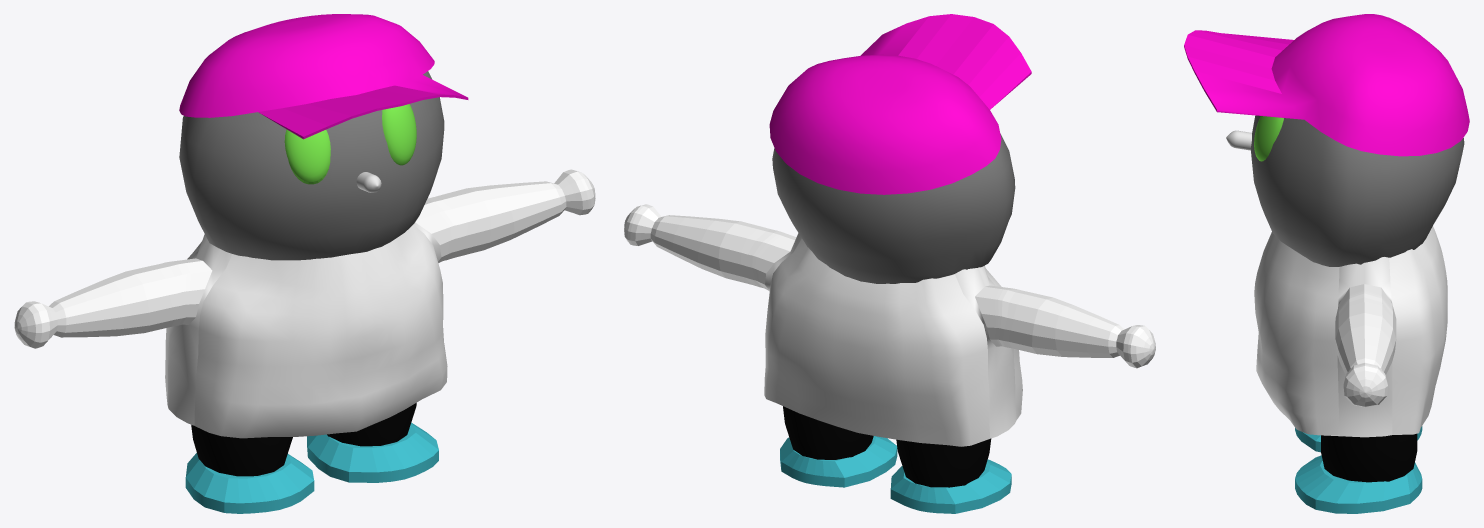
Rendered from enemy_walker.fbx.
3 views of the same model, side by side, from view 1: azimuth 30°, elevation 25°; view 2: azimuth 150°, elevation 25°; view 3: azimuth 270°, elevation 25° (orthographic). The views are drawn at different scales.
Parts seen in each view (by area): view 1: Cuerpo, Cabeza, gorra, Pie_der, Pie_izq, Ojos, Pierna_der, Pierna_inq; view 2: Cuerpo, gorra, Cabeza, Pie_der, Pie_izq, Pierna_der, Pierna_inq; view 3: Cuerpo, gorra, Cabeza, Pie_izq, Pierna_inq, Ojos, Nariz001, Pie_der.
Part boxes in pixels (box(x1,y1,x2,y2)): Cuerpo: box(14, 169, 595, 438); Cabeza: box(179, 71, 444, 260); gorra: box(179, 14, 468, 139); Pie_der: box(185, 453, 314, 513); Pie_izq: box(307, 422, 438, 482); Ojos: box(284, 104, 416, 184); Pierna_der: box(191, 425, 292, 476); Pierna_inq: box(327, 403, 416, 446); Cuerpo: box(624, 204, 1155, 446); gorra: box(769, 14, 1031, 194); Cabeza: box(772, 133, 1015, 283); Pie_der: box(890, 459, 1011, 513); Pie_izq: box(780, 436, 897, 487); Pierna_der: box(896, 438, 991, 487); Pierna_inq: box(783, 406, 873, 459); Cuerpo: box(1254, 226, 1447, 437); gorra: box(1184, 14, 1469, 156); Cabeza: box(1251, 115, 1464, 266); Pie_izq: box(1295, 455, 1422, 513); Pierna_inq: box(1321, 433, 1417, 482); Ojos: box(1254, 116, 1283, 161); Nariz001: box(1226, 130, 1251, 150); Pie_der: box(1295, 426, 1422, 452).
Size of the model in its own units: 195 by 143 by 87.26.
